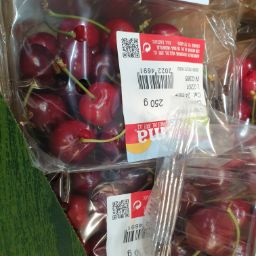Cherry: (17, 4, 123, 189), (42, 116, 132, 240), (178, 182, 237, 254)
